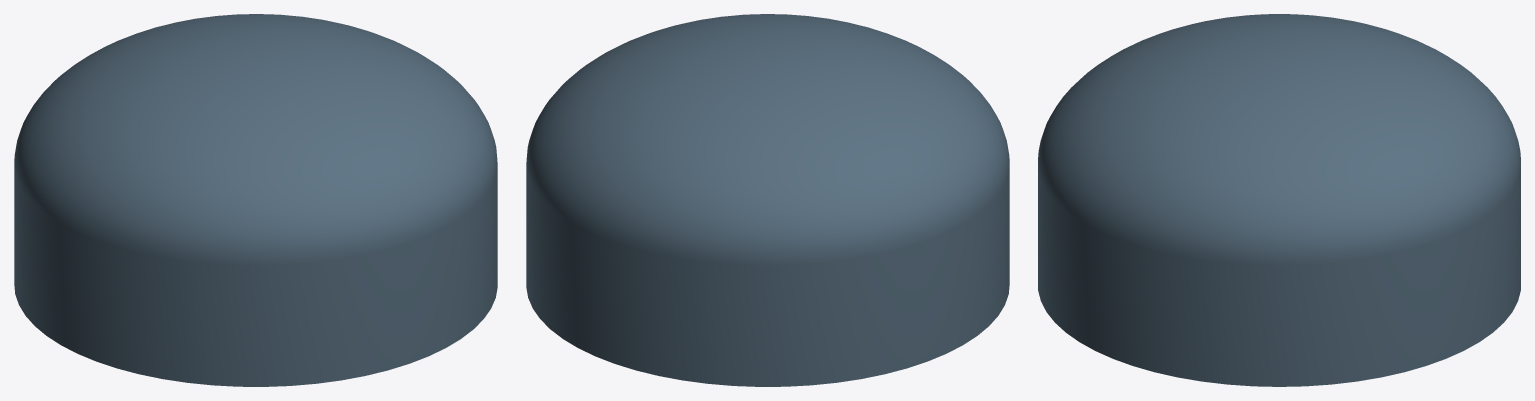
File: zaglushka-38x3-H20.glb
3 views of the same model, side by side, from view 1: azimuth 30°, elevation 25°; view 2: azimuth 150°, elevation 25°; view 3: azimuth 270°, elevation 25° (orthographic).
Visible parts, largest first — view 1: Open CASCADE STEP translator 7.9 4; view 2: Open CASCADE STEP translator 7.9 4; view 3: Open CASCADE STEP translator 7.9 4.
Boxes of the visible parts, x1=… form: Open CASCADE STEP translator 7.9 4: x1=14, y1=14, x2=497, y2=386; Open CASCADE STEP translator 7.9 4: x1=526, y1=14, x2=1009, y2=386; Open CASCADE STEP translator 7.9 4: x1=1038, y1=14, x2=1520, y2=386.
Bounding box in the file's own units: 38 × 20 × 37.94.
